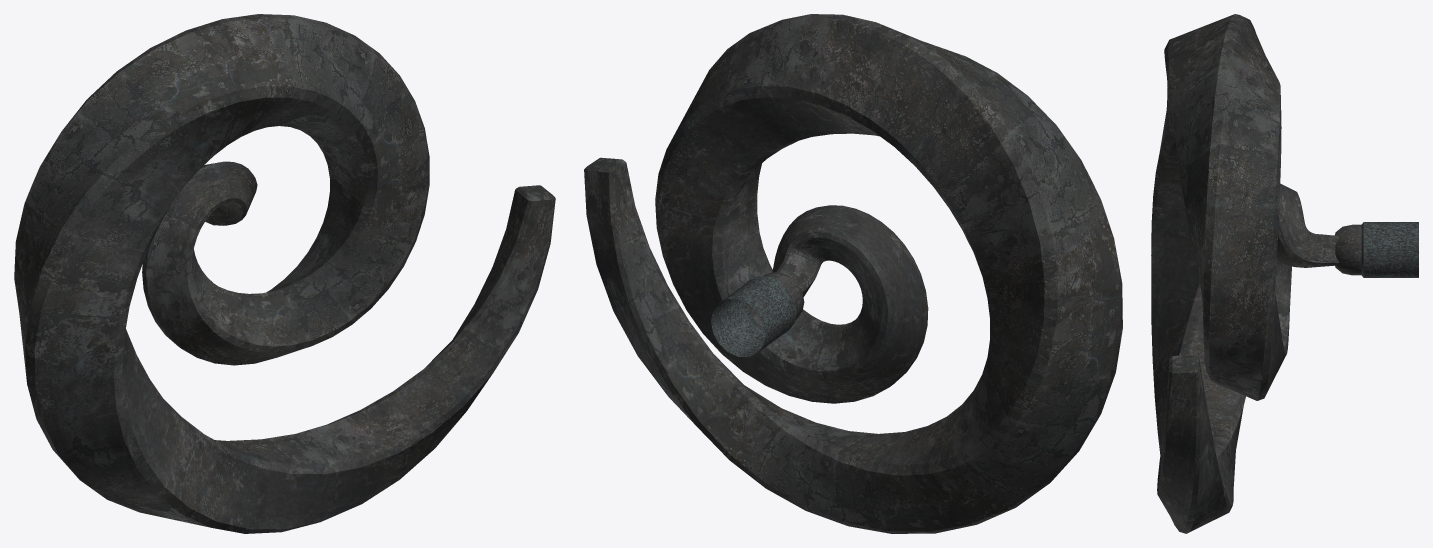
The model's file is p6_la_sculpture_fountain_01_LOD0.obj.
3 views of the same model, side by side, from view 1: azimuth 30°, elevation 25°; view 2: azimuth 150°, elevation 25°; view 3: azimuth 270°, elevation 25° (orthographic). The views are drawn at different scales.
Visible parts, largest first — view 1: metal_wall_brushed02; view 2: metal_wall_brushed02, stone_floor_granite_tile01_blue; view 3: metal_wall_brushed02, stone_floor_granite_tile01_blue.
Part boxes in pixels (x1=…): metal_wall_brushed02: x1=14, y1=14, x2=555, y2=533; metal_wall_brushed02: x1=584, y1=14, x2=1122, y2=533; stone_floor_granite_tile01_blue: x1=711, y1=276, x2=796, y2=357; metal_wall_brushed02: x1=1151, y1=14, x2=1361, y2=533; stone_floor_granite_tile01_blue: x1=1361, y1=222, x2=1418, y2=277.
Size of the model in its own units: 492 by 451 by 241.
